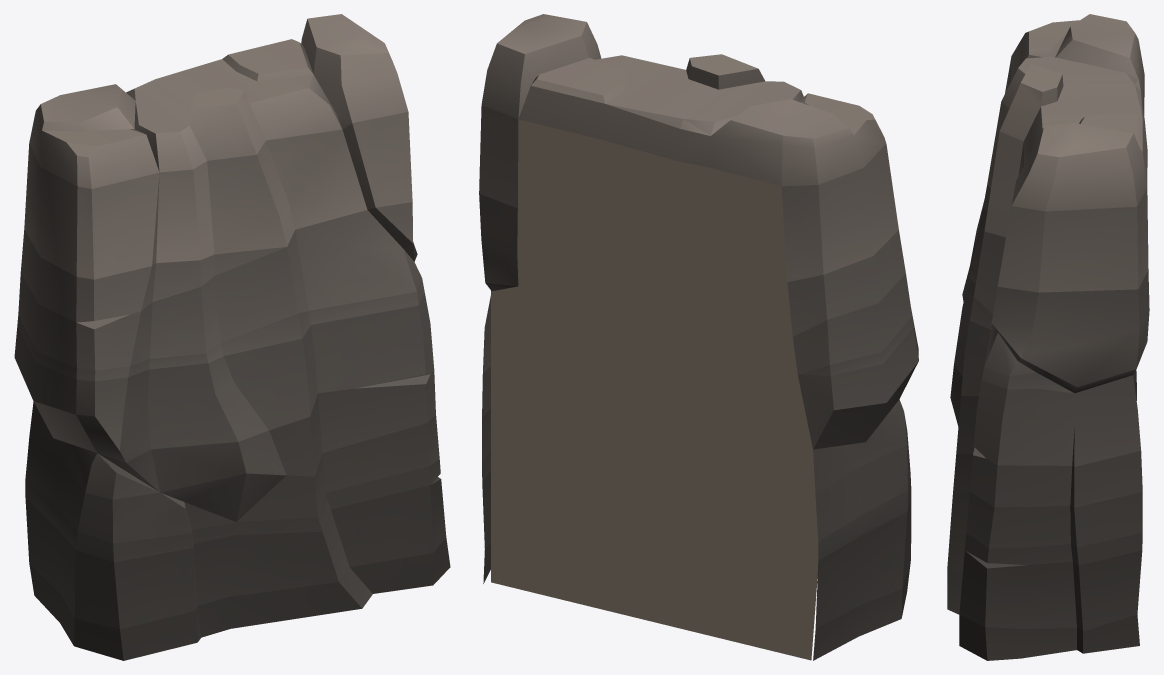
File: Canyon_Wall_1C.fbx
3 views of the same model, side by side, from view 1: azimuth 30°, elevation 25°; view 2: azimuth 150°, elevation 25°; view 3: azimuth 270°, elevation 25° (orthographic). The views are drawn at different scales.
Visible parts, largest first — view 1: Canyon_Wall_1C; view 2: Canyon_Wall_1C; view 3: Canyon_Wall_1C.
Part boxes in pixels (x1,y1,x2,y2): Canyon_Wall_1C: [14, 14, 450, 660]; Canyon_Wall_1C: [479, 14, 918, 660]; Canyon_Wall_1C: [947, 14, 1149, 660].
Size of the model in its own units: 2434 by 3149 by 1164.
